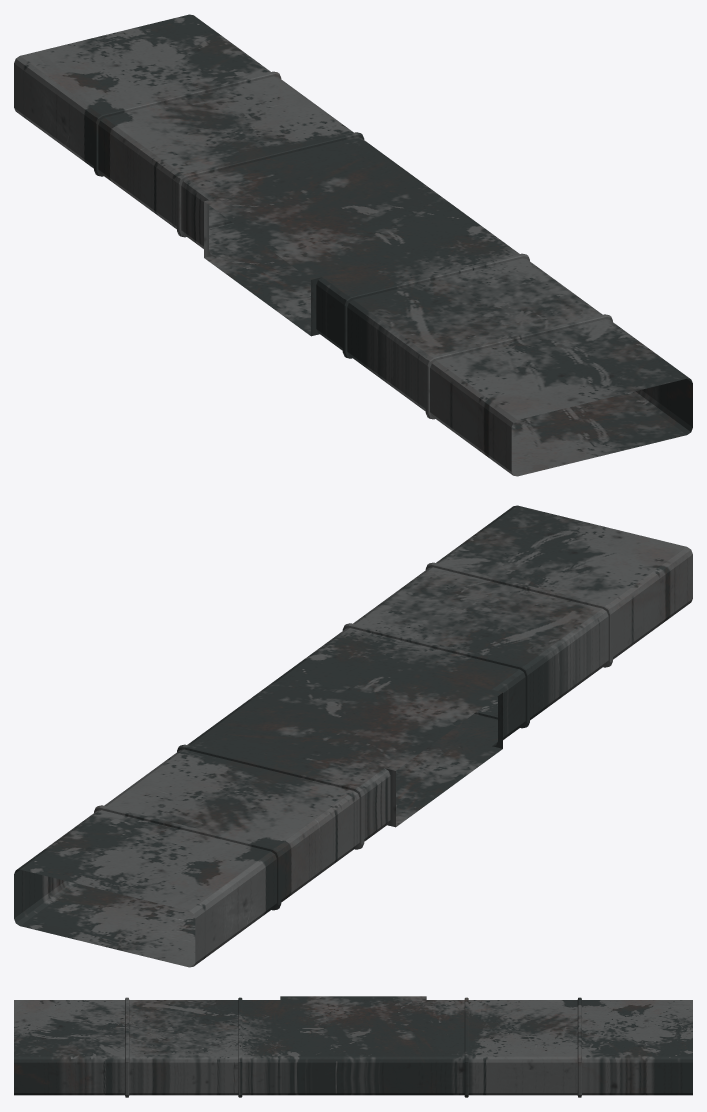
File: Vent2.fbx
3 views of the same model, one above another, from view 1: azimuth 30°, elevation 25°; view 2: azimuth 150°, elevation 25°; view 3: azimuth 270°, elevation 25° (orthographic). The views are drawn at different scales.
Visible parts, largest first — view 1: Vent2; view 2: Vent2; view 3: Vent2.
Boxes of the visible parts, left/top/right/bottom form: Vent2: left=14, top=14, right=692, bottom=476; Vent2: left=14, top=505, right=692, bottom=967; Vent2: left=14, top=996, right=692, bottom=1097.
Bounding box in the file's own units: 840 × 262 × 3835.
Materials: 1 (1 with a texture image).
